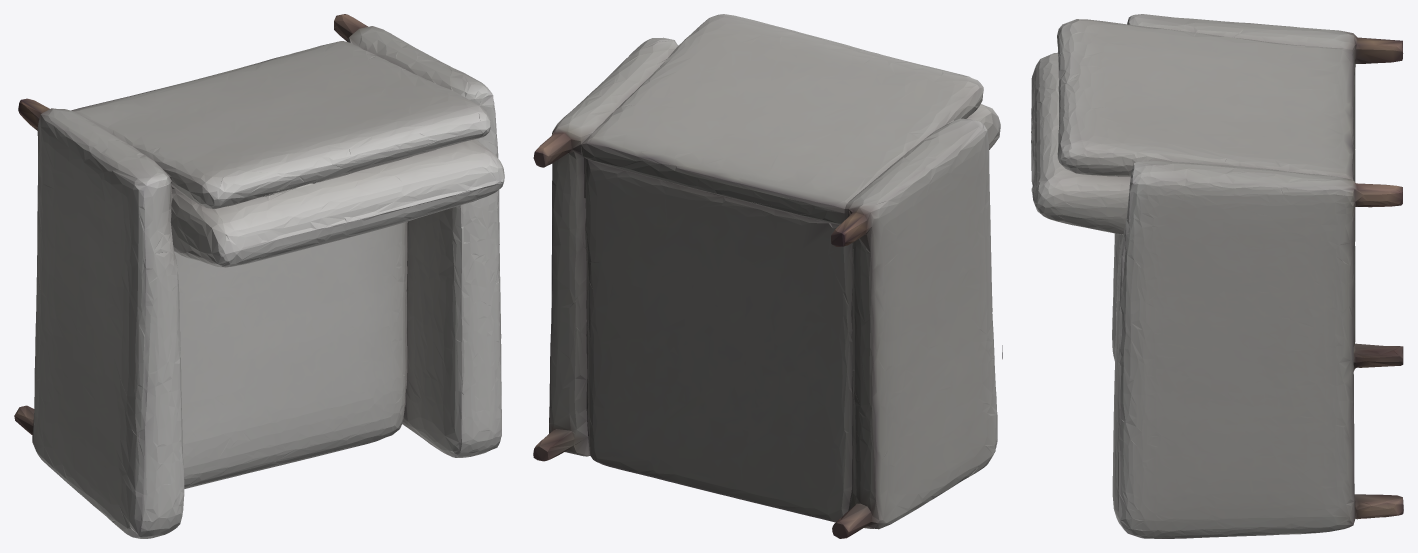
The model's file is chair_3.glb.
3 views of the same model, side by side, from view 1: azimuth 30°, elevation 25°; view 2: azimuth 150°, elevation 25°; view 3: azimuth 270°, elevation 25° (orthographic). The views are drawn at different scales.
Parts seen in each view (by area): view 1: geometry_0; view 2: geometry_0; view 3: geometry_0.
Part boxes in pixels (<box>): geometry_0: <box>14,14,504,538</box>; geometry_0: <box>533,14,1002,538</box>; geometry_0: <box>1031,14,1403,538</box>.
Size of the model in its own units: 0.9348 by 0.9226 by 0.8154.
